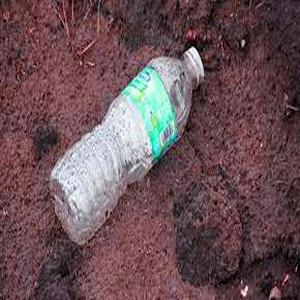Plastic: (49, 46, 206, 246)
